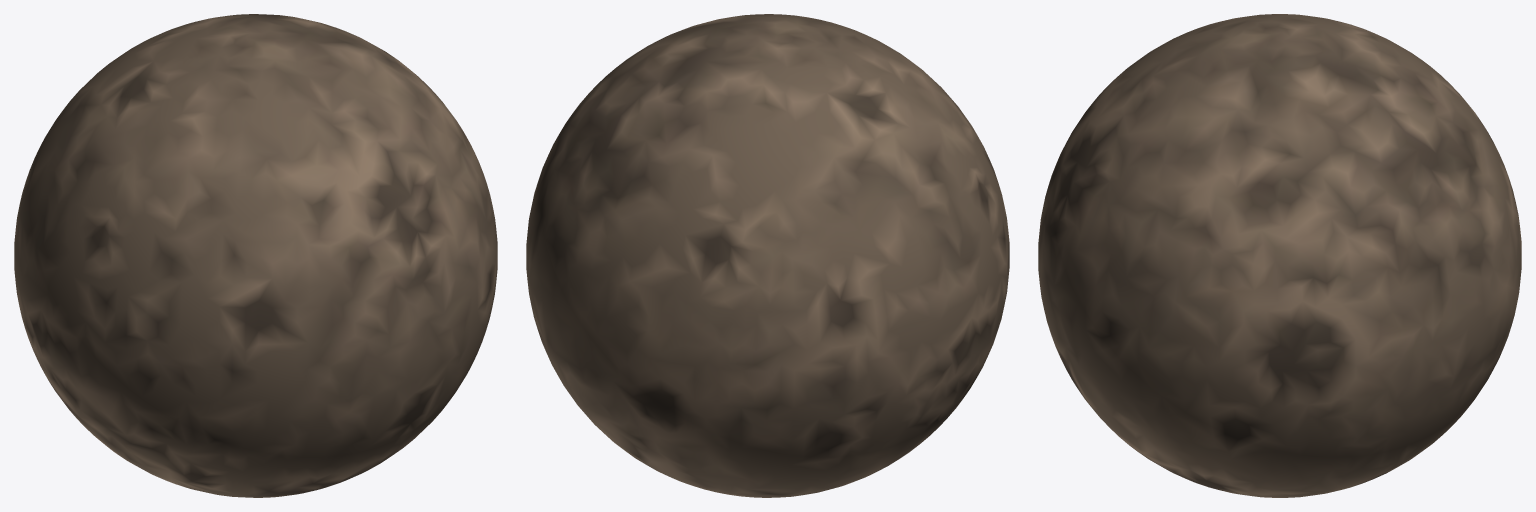
Rendered from planet_hot_selena.fbx.
3 views of the same model, side by side, from view 1: azimuth 30°, elevation 25°; view 2: azimuth 150°, elevation 25°; view 3: azimuth 270°, elevation 25° (orthographic).
Parts seen in each view (by area): view 1: planet_hot_selena; view 2: planet_hot_selena; view 3: planet_hot_selena.
Part boxes in pixels (<box>): planet_hot_selena: <box>14,14,497,497</box>; planet_hot_selena: <box>526,14,1009,497</box>; planet_hot_selena: <box>1038,14,1521,497</box>.
Size of the model in its own units: 184 by 184 by 184.
